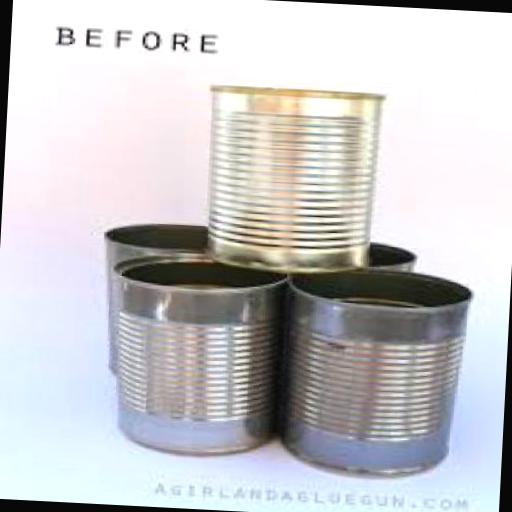metal: (94, 245, 296, 458), (282, 264, 470, 482), (200, 85, 384, 276), (94, 220, 204, 378), (358, 234, 416, 270)
